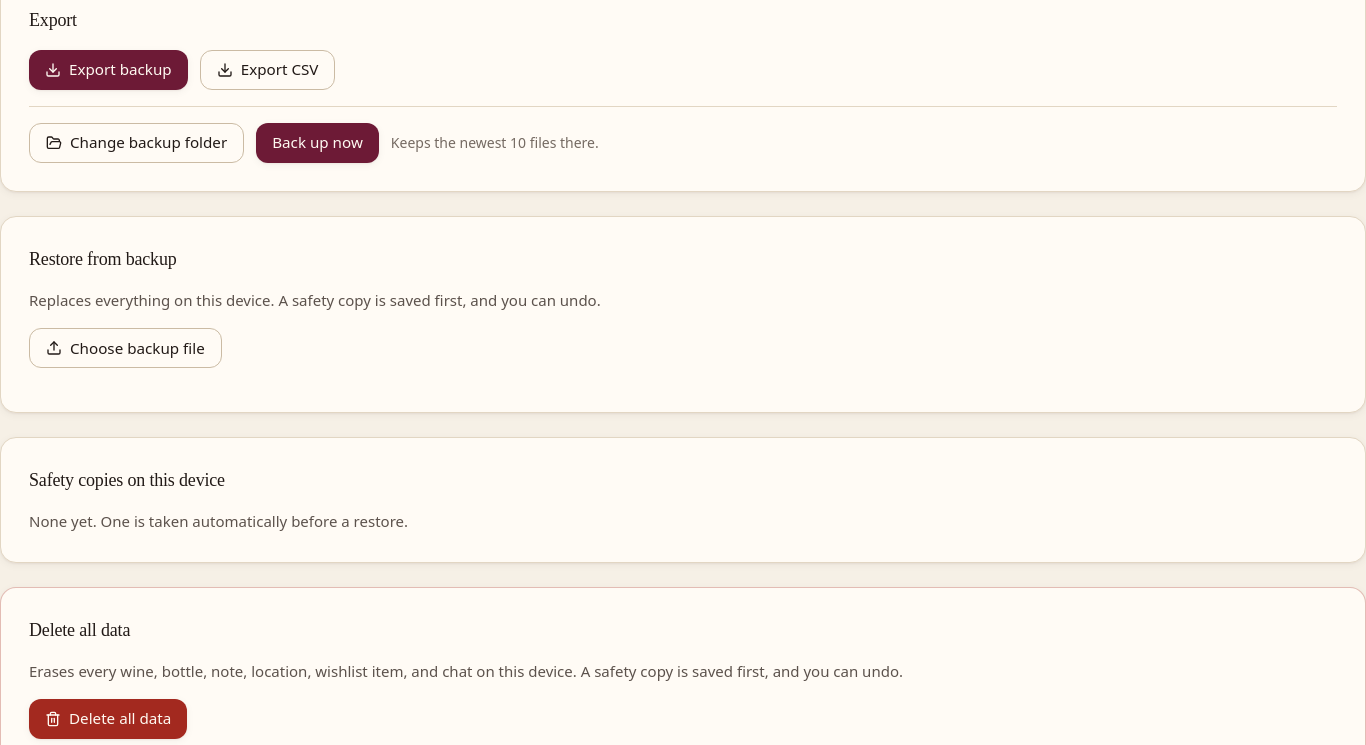
Scenario: BackupPage › restores a safety snapshot from the list
The width and height of the screenshot is (1366, 745).
Later steps or results of the test are not shown.
(page scrolled)
Note: Deleting takes a snapshot of the one wine, then removes it.
Click the button "Delete all data".
click(108, 719)  # box [29, 699, 187, 739]
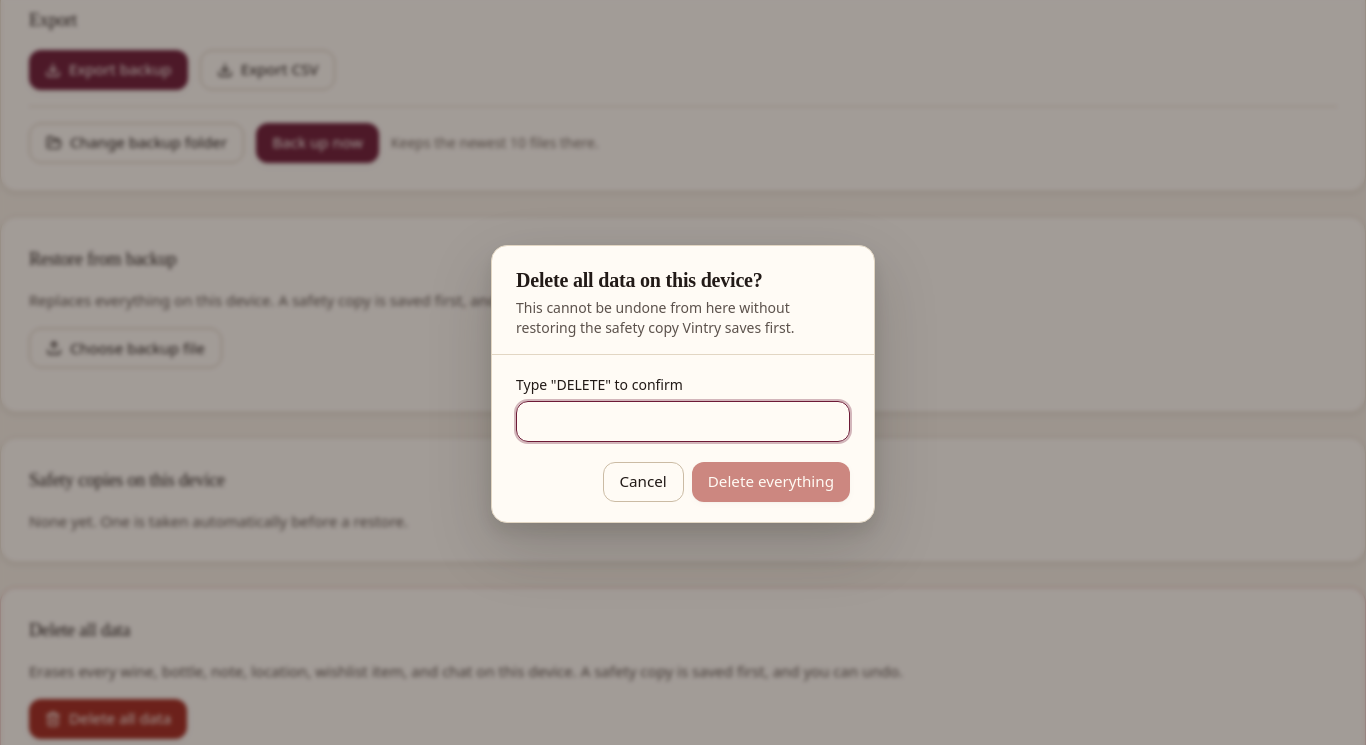
Now the heading "Delete all data on this device?" is shown, box [516, 269, 762, 291]
Type "DELETE" into the field labelled "Type \"DELETE\" to confirm".
click(683, 421); type("DELETE")  # box [516, 401, 850, 442]
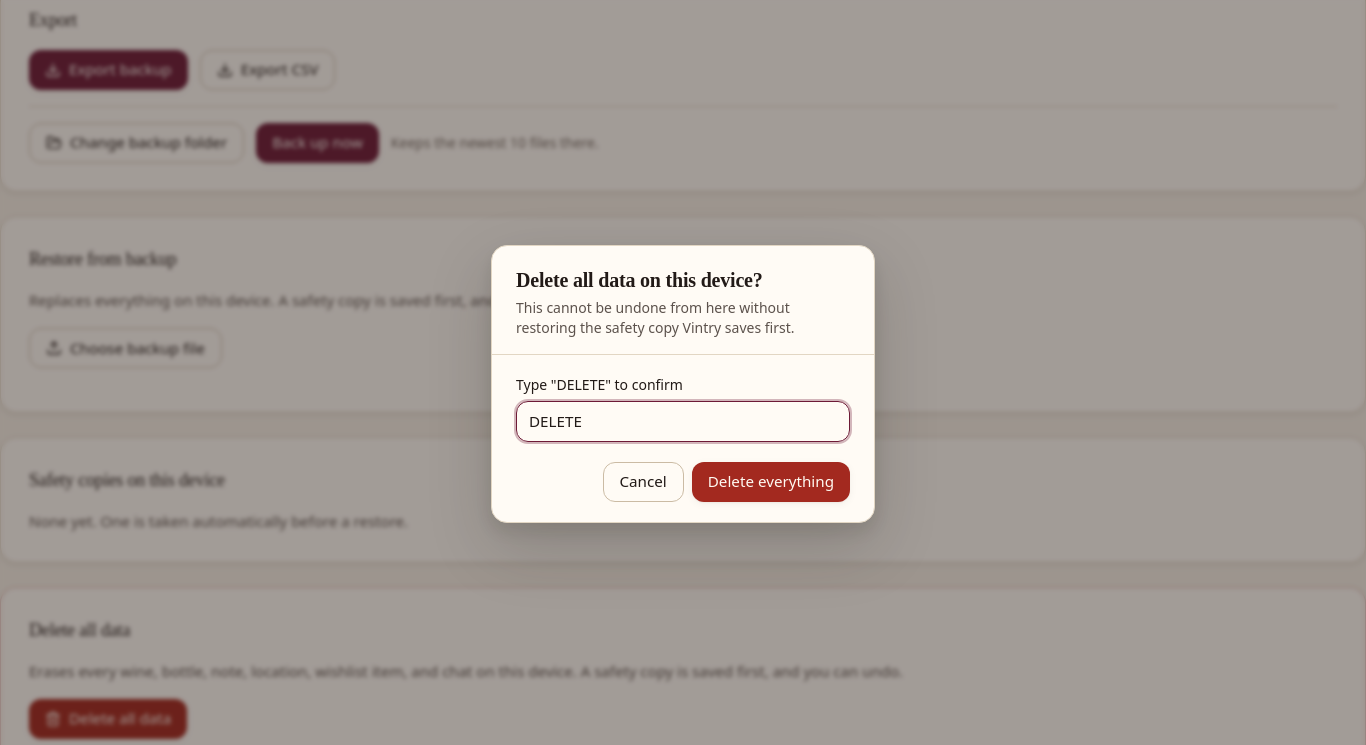
Click the button "Delete everything".
click(771, 482)  # box [692, 462, 850, 502]
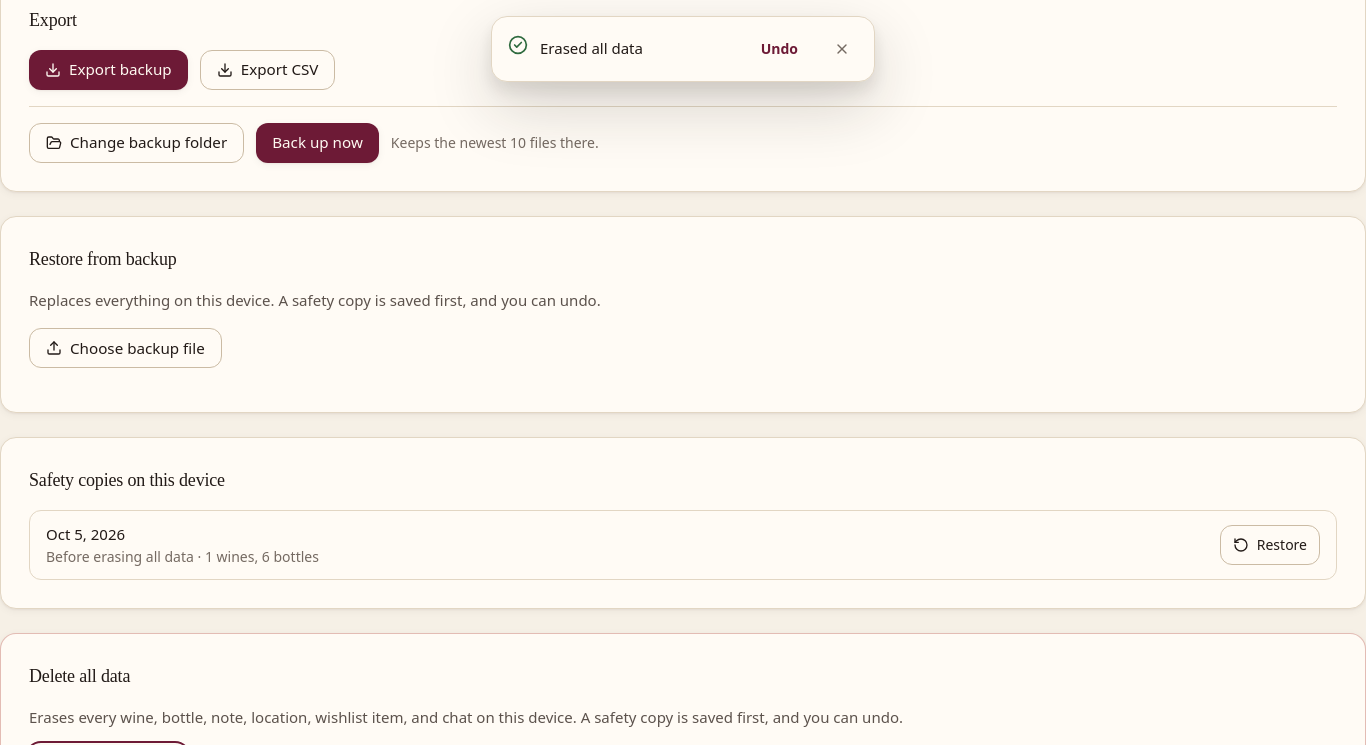
Click the button "Restore".
click(1270, 545)  # box [1220, 525, 1320, 565]
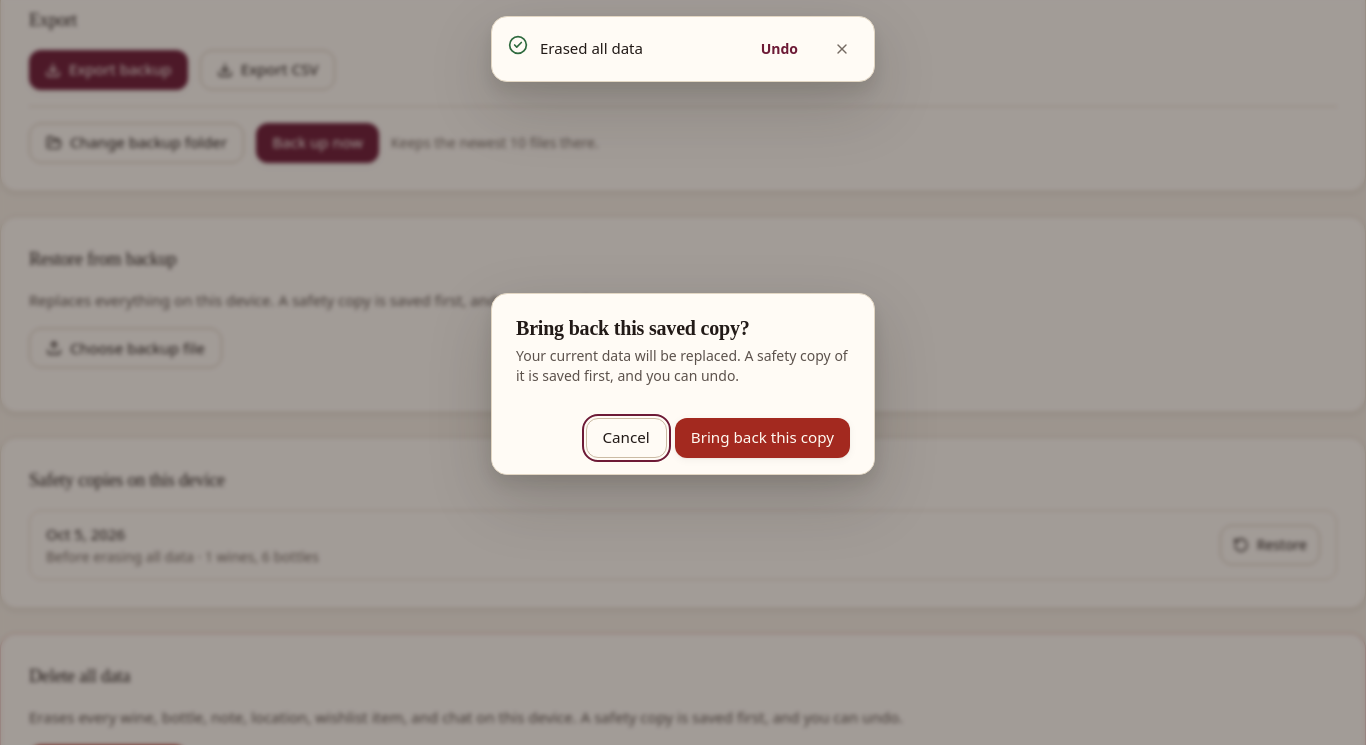
Now the heading "Bring back this saved copy?" is shown, box [516, 317, 750, 339]
